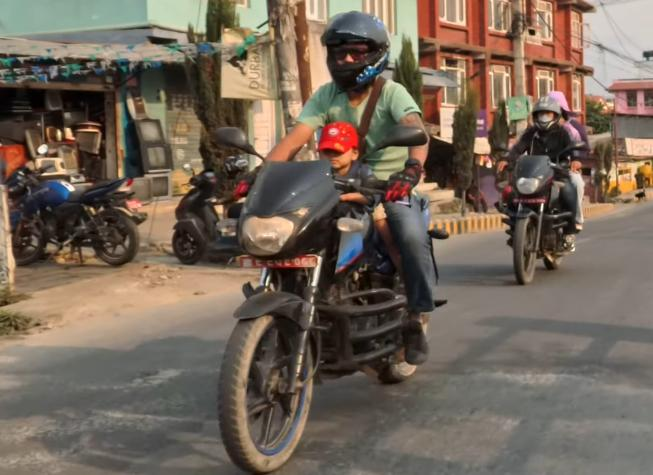bike: (200, 115, 455, 475), (481, 139, 596, 292)
